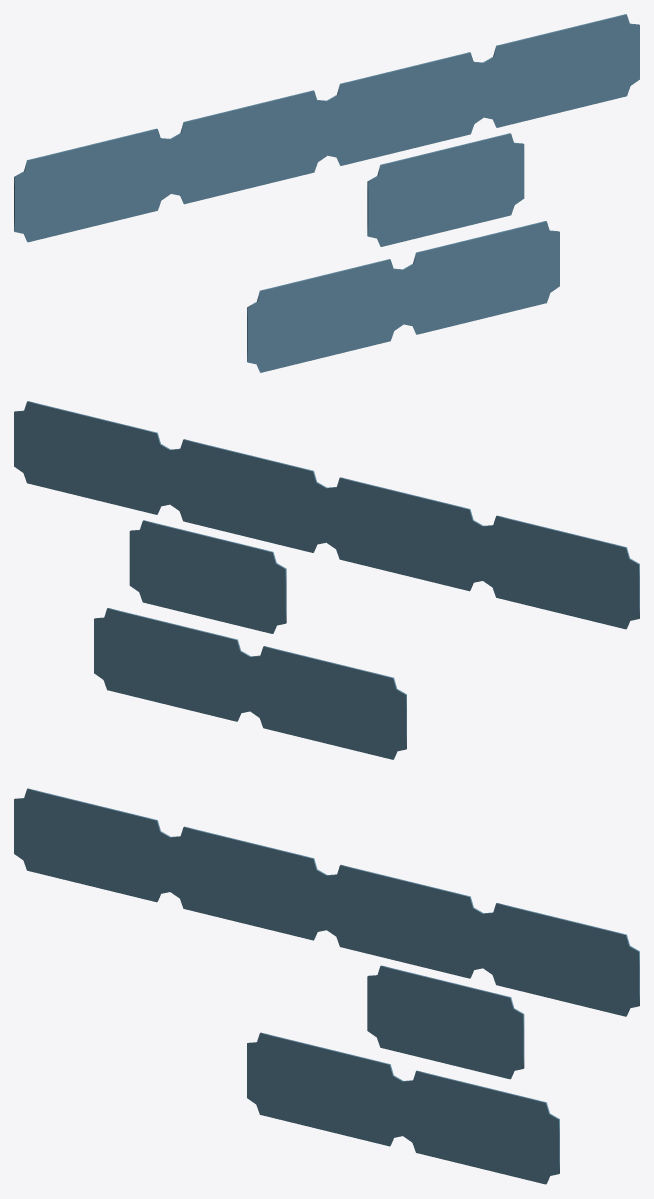
The model's file is Tickets.fbx.
3 views of the same model, one above another, from view 1: azimuth 30°, elevation 25°; view 2: azimuth 150°, elevation 25°; view 3: azimuth 330°, elevation 25° (orthographic).
Visible parts, largest first — view 1: group_pasted__pCube1, pasted__pasted__pasted__pasted__pasted__pCube1, pasted__pasted__pasted__pCube1; view 2: group_pasted__pCube1, pasted__pasted__pasted__pasted__pasted__pCube1, pasted__pasted__pasted__pCube1; view 3: group_pasted__pCube1, pasted__pasted__pasted__pasted__pasted__pCube1, pasted__pasted__pasted__pCube1.
Boxes of the visible parts, bbox=[...] form: group_pasted__pCube1: bbox=[14, 14, 639, 242]; pasted__pasted__pasted__pasted__pasted__pCube1: bbox=[247, 221, 559, 372]; pasted__pasted__pasted__pCube1: bbox=[367, 133, 524, 246]; group_pasted__pCube1: bbox=[14, 401, 639, 629]; pasted__pasted__pasted__pasted__pasted__pCube1: bbox=[94, 608, 406, 759]; pasted__pasted__pasted__pCube1: bbox=[129, 520, 286, 633]; group_pasted__pCube1: bbox=[14, 788, 639, 1016]; pasted__pasted__pasted__pasted__pasted__pCube1: bbox=[247, 1032, 559, 1184]; pasted__pasted__pasted__pCube1: bbox=[367, 965, 524, 1079].
Size of the model in its own units: 27.39 by 11.26 by 0.0708.
